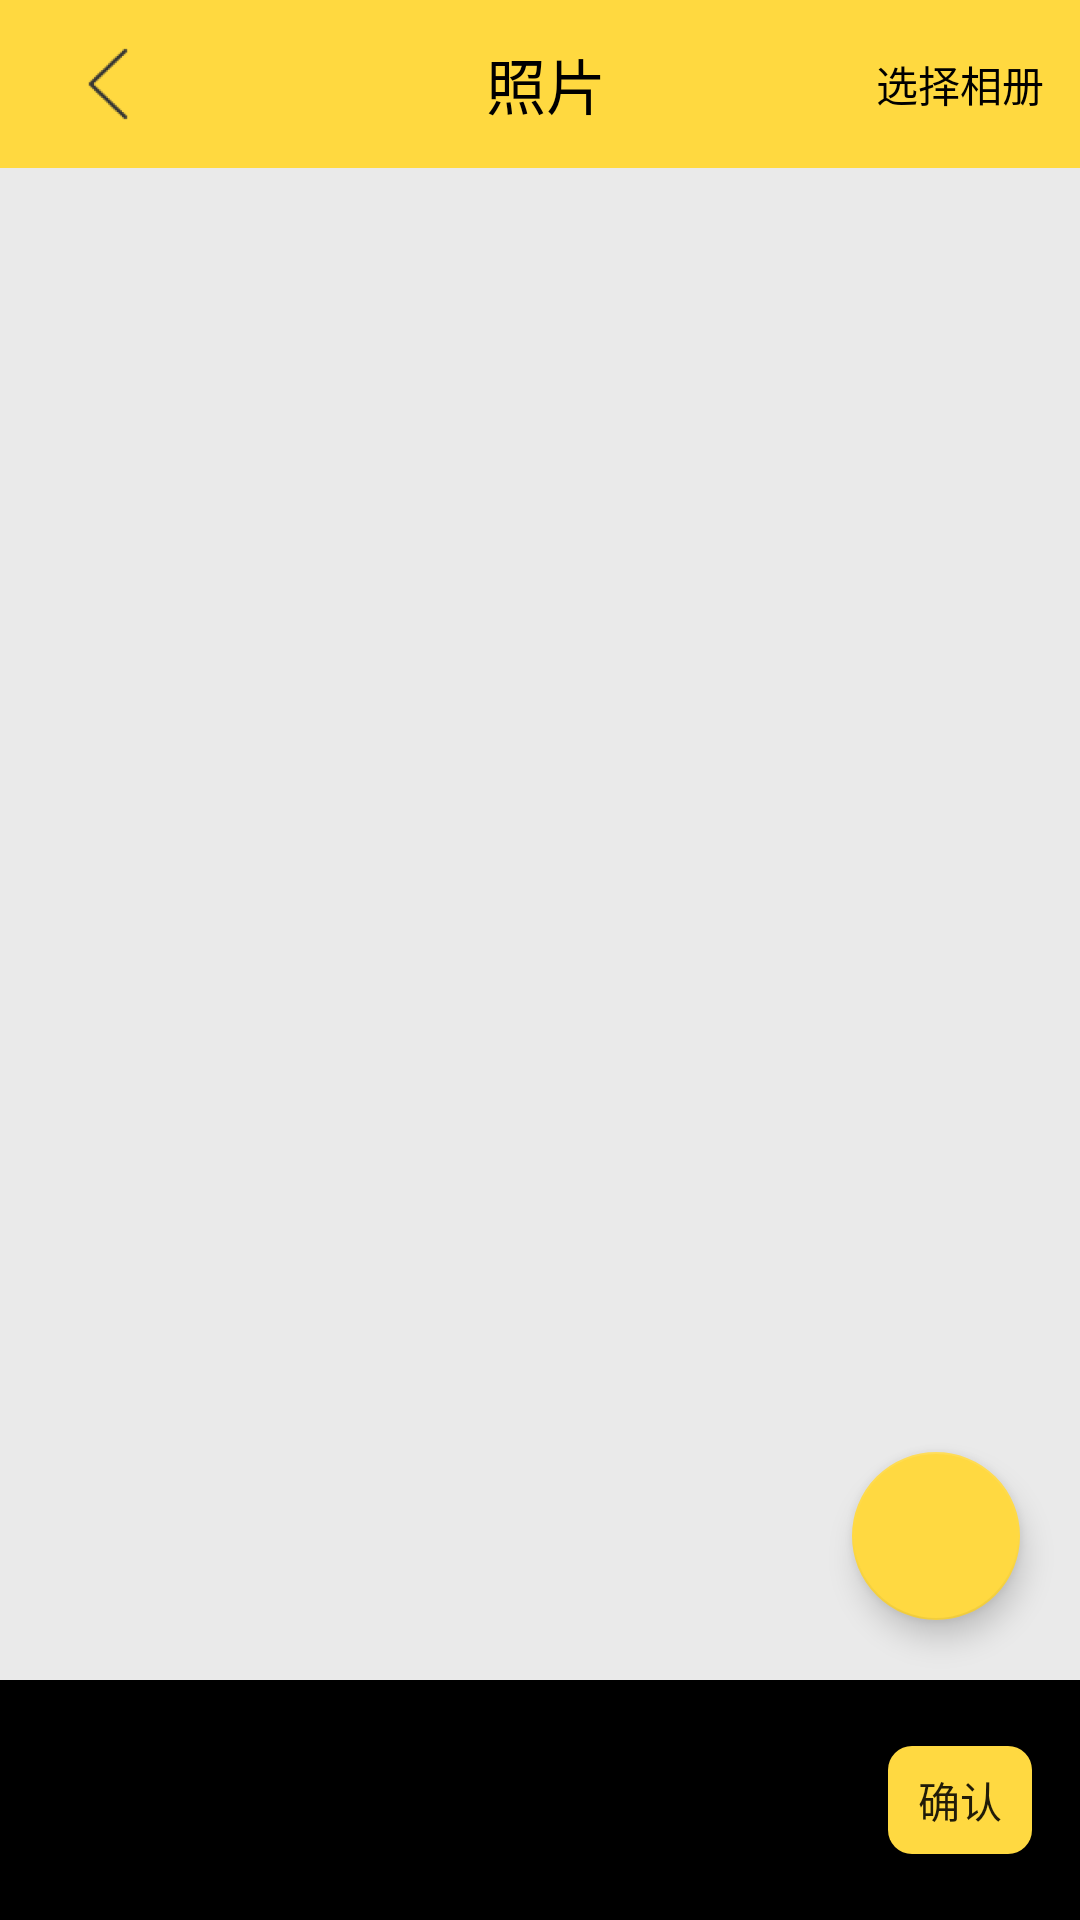

Icons on this 1080w x 1920h Android screen, each with the point to tap as [x,y]:
pic back: [108,84]
